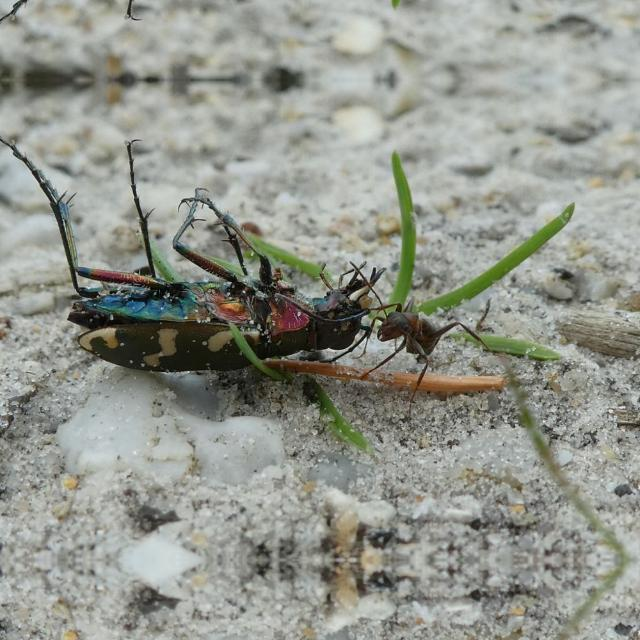Formica: (368, 296, 469, 394)
